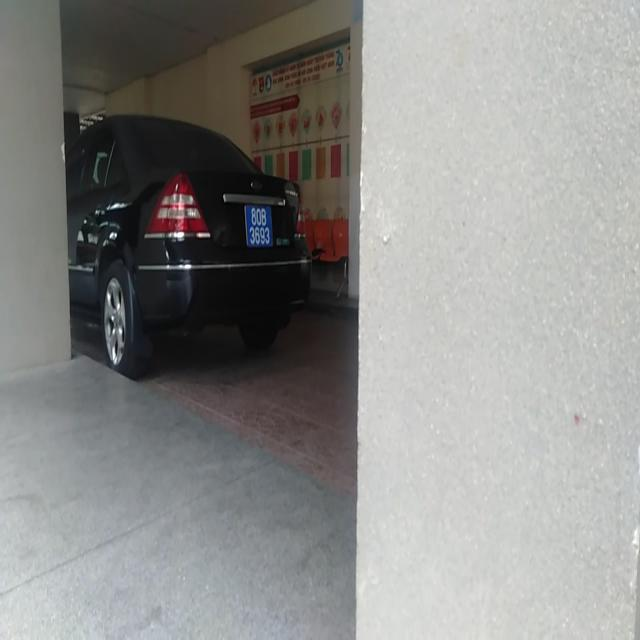bien_xanh: (244, 200, 278, 258)
